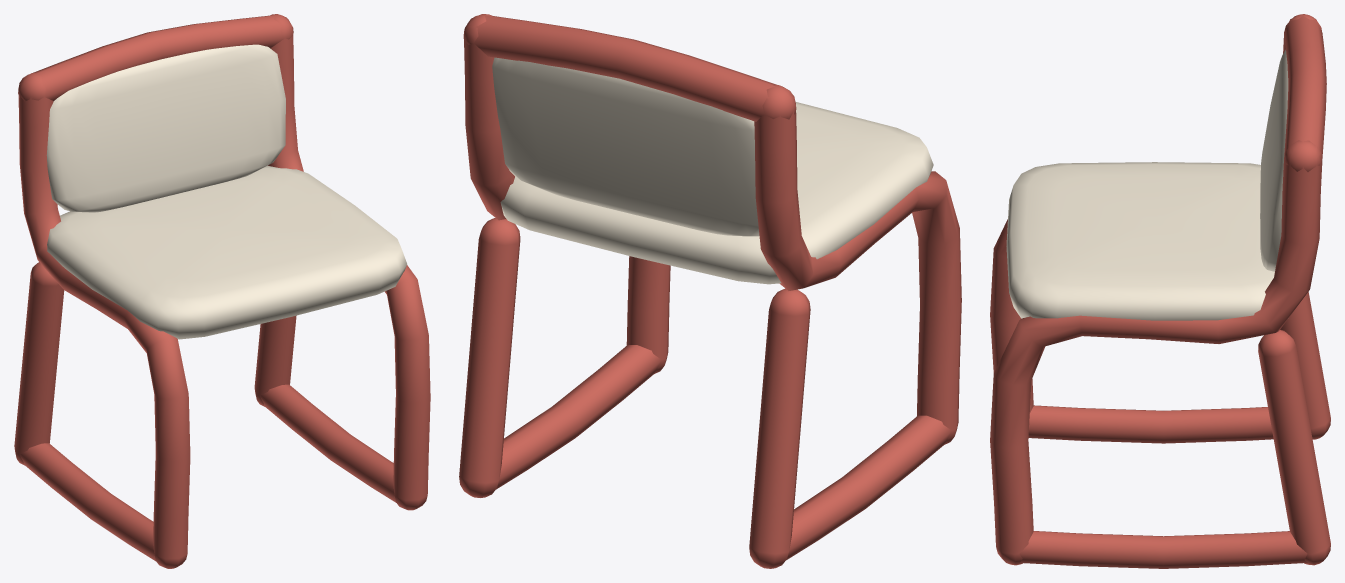
Rendered from child_tube_chair.glb.
The picture shows the model from 3 angles, left to right: view 1: azimuth 30°, elevation 25°; view 2: azimuth 150°, elevation 25°; view 3: azimuth 270°, elevation 25°; orthographic projection. The views are drawn at different scales.
Visible parts, largest first — view 1: child_tube_chair_mesh; view 2: child_tube_chair_mesh; view 3: child_tube_chair_mesh.
Boxes of the visible parts, box(x1,y1,x2,y2) form: child_tube_chair_mesh: box(14, 14, 430, 568); child_tube_chair_mesh: box(459, 14, 961, 568); child_tube_chair_mesh: box(990, 14, 1330, 568).
Bounding box in the file's own units: 0.384 × 0.555 × 0.3906.
